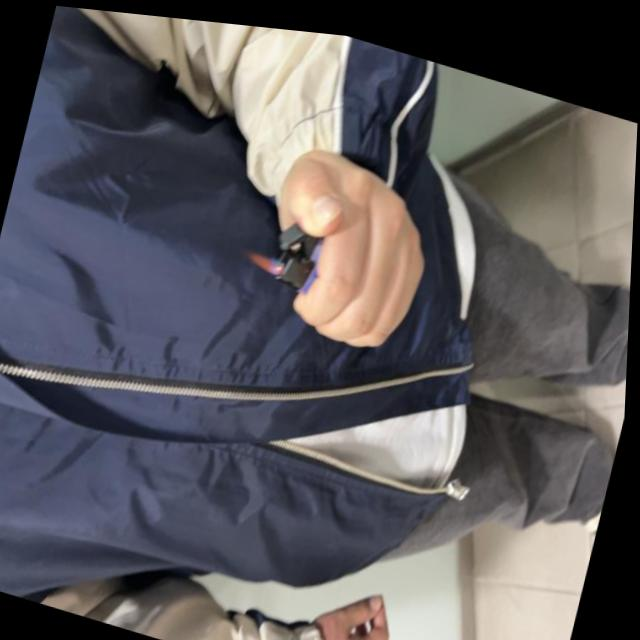Fire: (243, 242, 288, 269)
